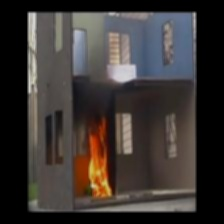fire: (80, 117, 113, 200)
